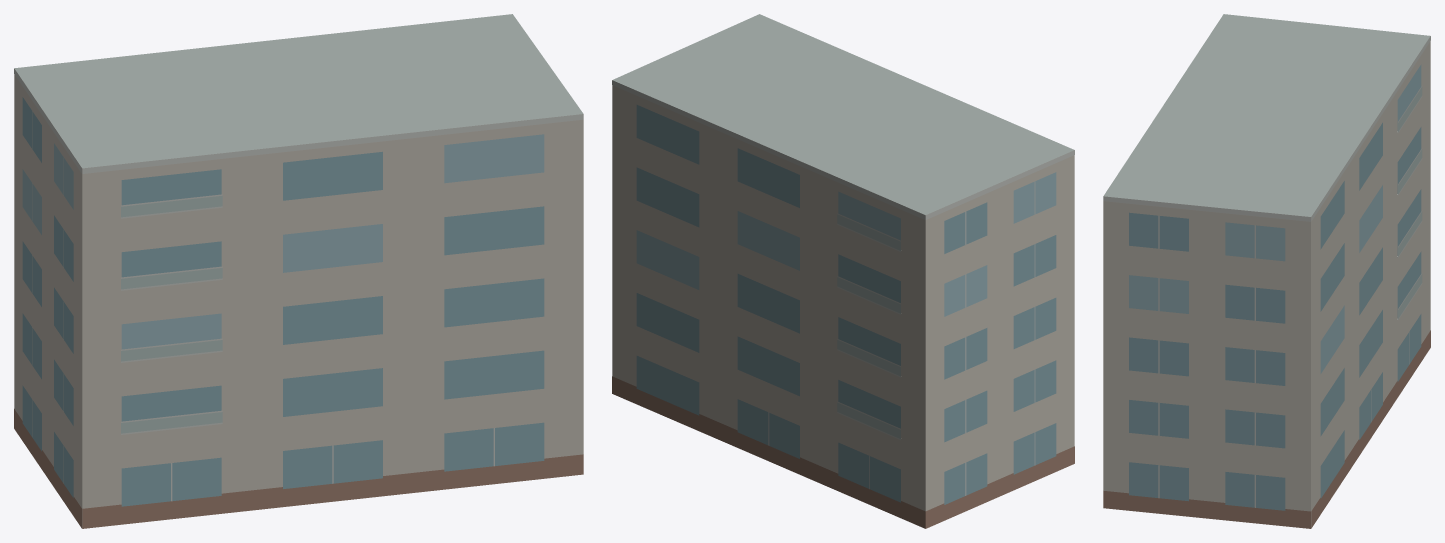
Rendered from survey-upis-32880279.glb.
3 renders of one model, left to right at view 1: azimuth 30°, elevation 25°; view 2: azimuth 150°, elevation 25°; view 3: azimuth 270°, elevation 25°, orthographic. The views are drawn at different scales.
Parts seen in each view (by area): view 1: survey-upis-32880279.tmp; view 2: survey-upis-32880279.tmp; view 3: survey-upis-32880279.tmp.
Part boxes in pixels (box(x1,y1,x2,y2)): survey-upis-32880279.tmp: box(14, 14, 583, 528); survey-upis-32880279.tmp: box(612, 14, 1074, 528); survey-upis-32880279.tmp: box(1103, 14, 1430, 528).
Bounding box in the file's own units: 21.66 × 15.5 × 14.76.
